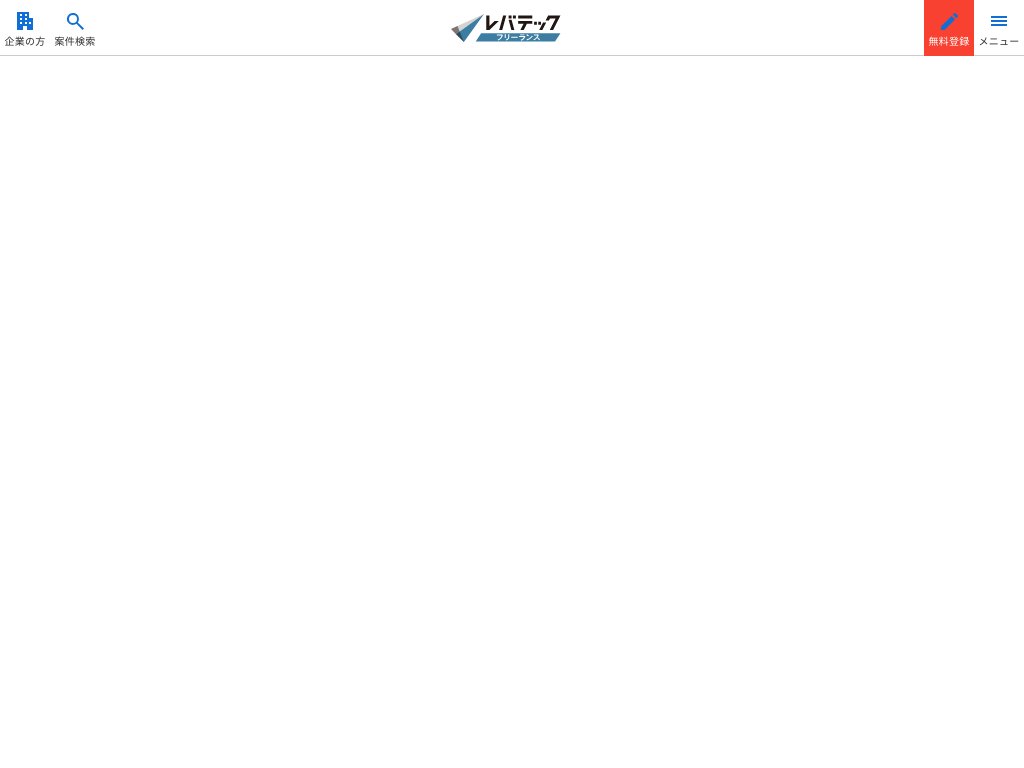
Test: HeaderSp › 閉じるボタンをクリックするとグローバルナビメニューが閉じること
Click the button "メニュー". click: (999, 28)
box: [974,0,1023,56]
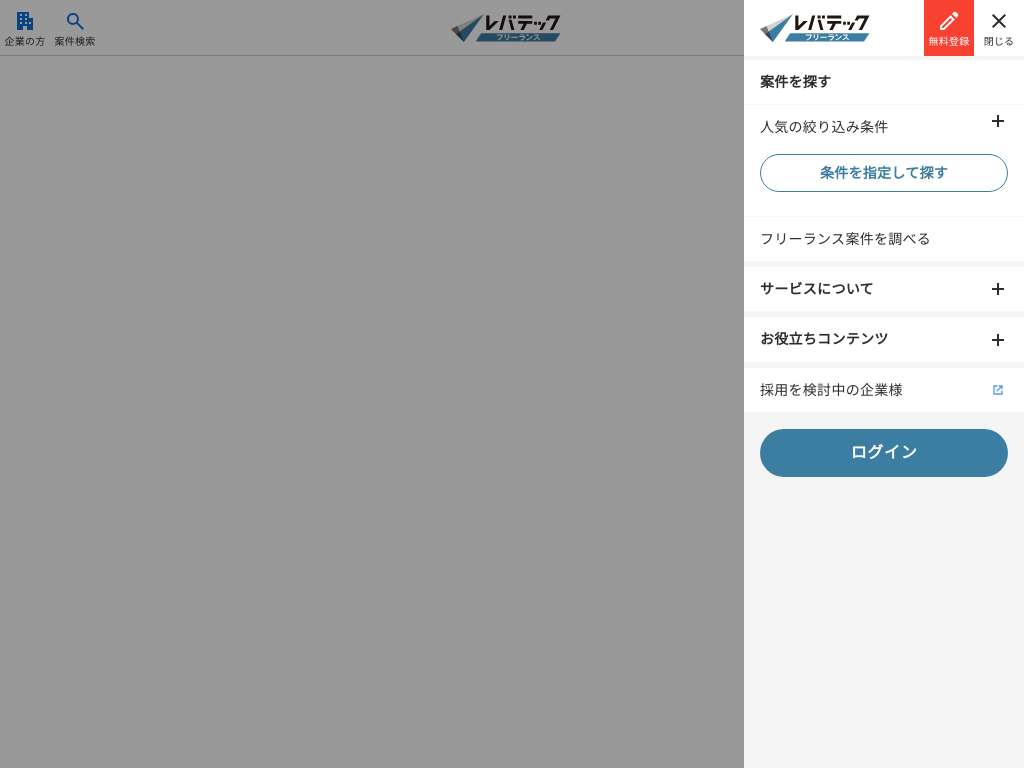
Now the navigation bar is shown, box [744,0,1023,477]
Click the button "閉じる". click: (999, 28)
box: [974,0,1023,56]
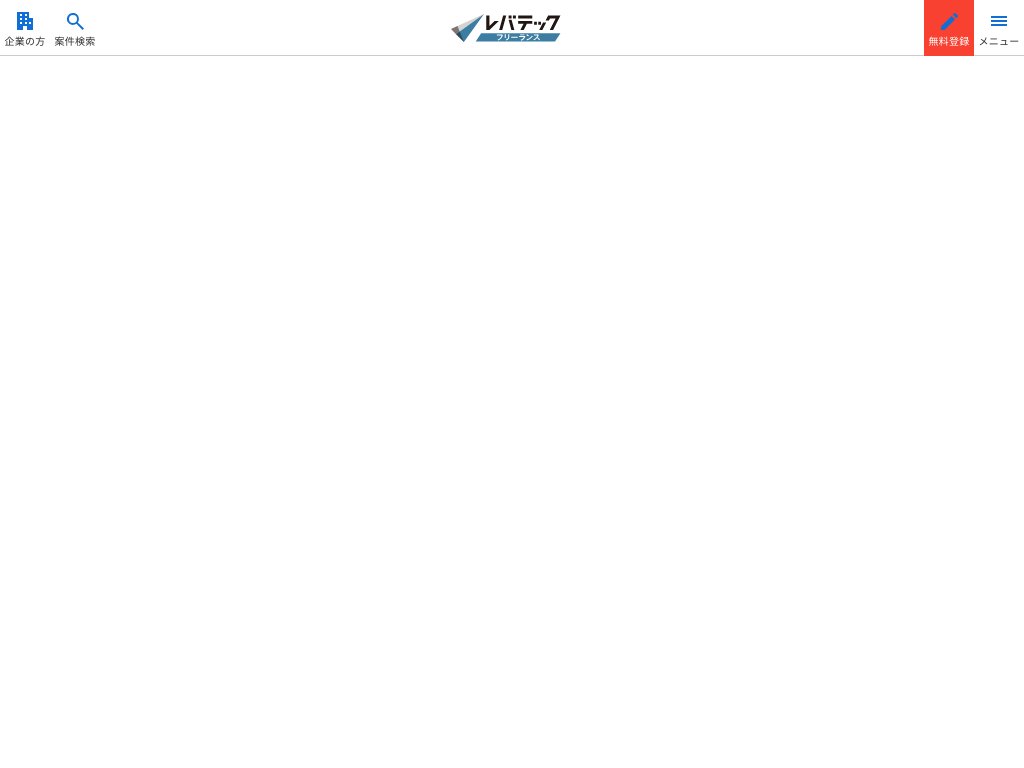
Now the navigation bar is gone
